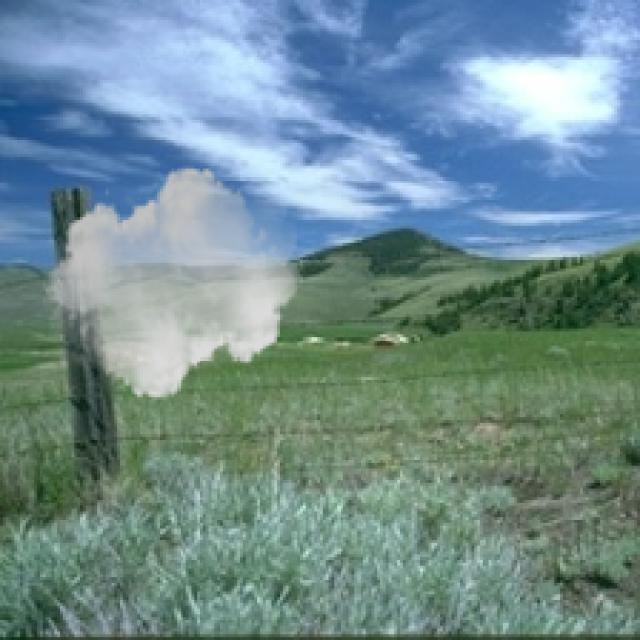smoke: (43, 157, 303, 409)
